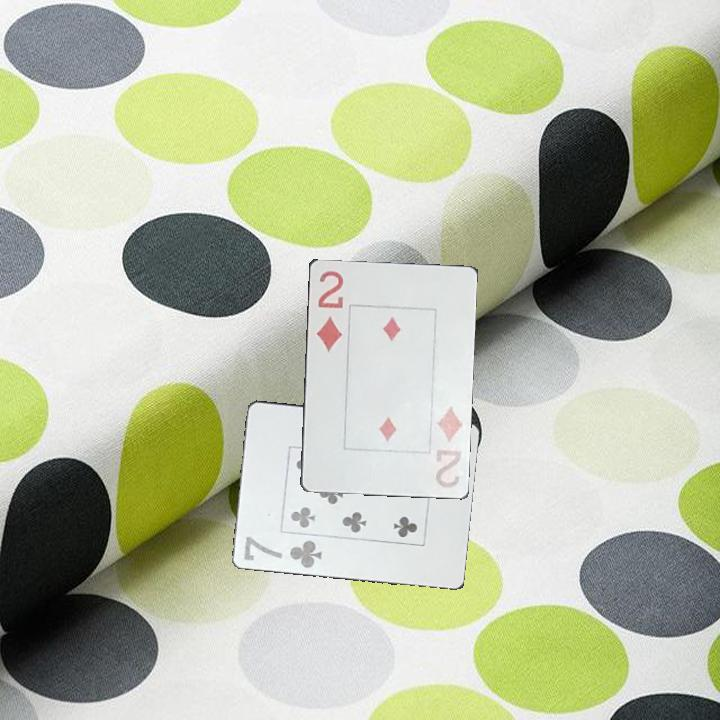2d: (431, 402, 466, 491), (313, 267, 346, 355)
7c: (240, 532, 325, 571)
